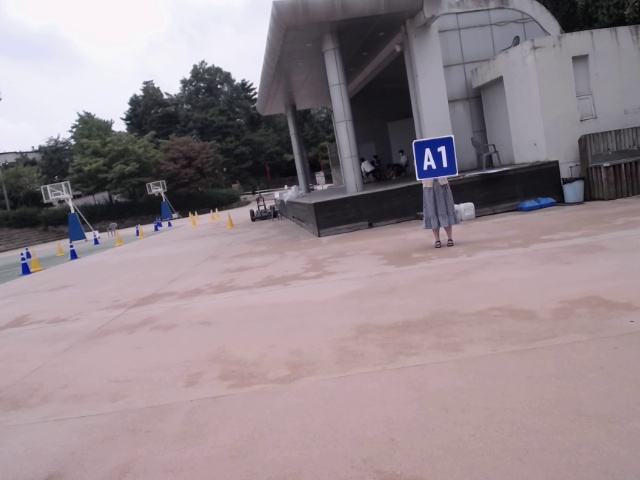delivery_a1: (413, 136, 457, 179)
